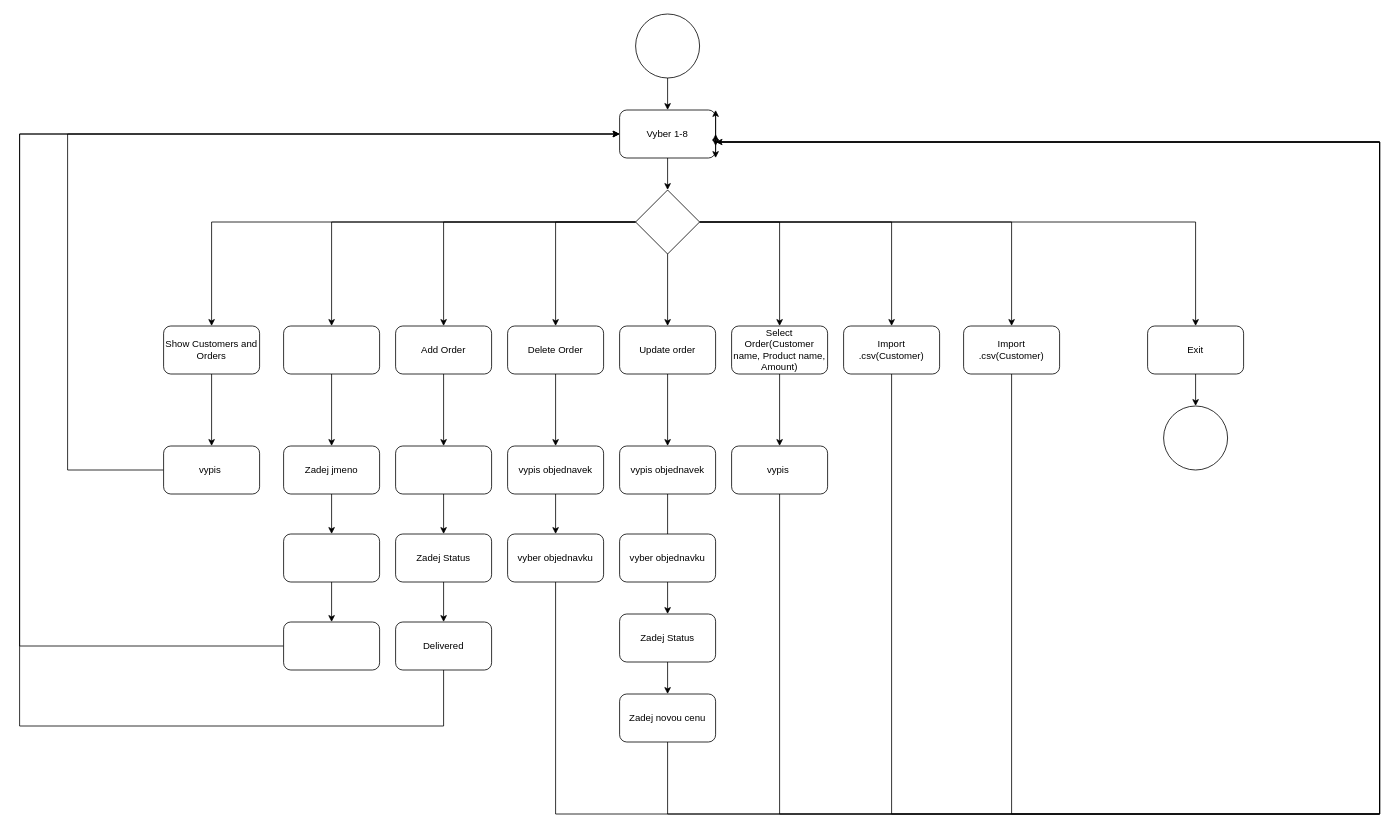
Some shapes in this 1400 by 834 pixel diagram are drawn without their labels. The centre of each missing label's shape, as x and y in pixels:
"Add Customer" goes at pixel 331 349.
"Konec" goes at pixel 1195 437.
"Start" goes at pixel 667 45.
"Zadej email" goes at pixel 331 557.
"Zadej Heslo" goes at pixel 331 645.
"Zadej id" goes at pixel 443 469.
